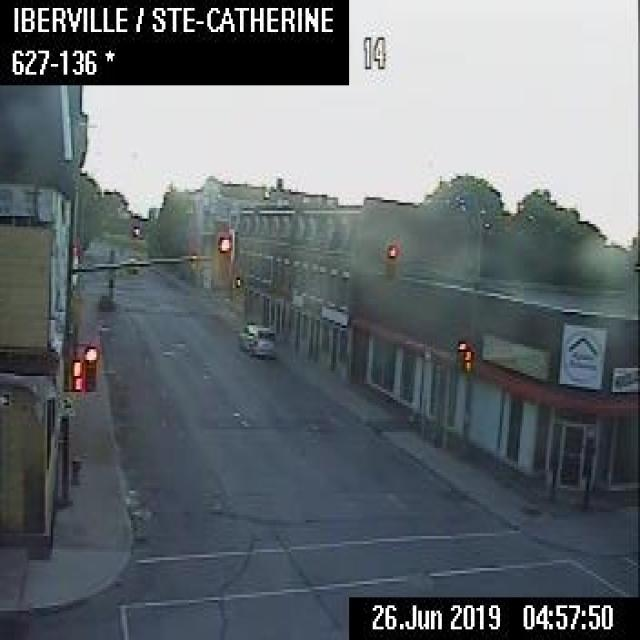vehicle: (238, 321, 274, 356)
